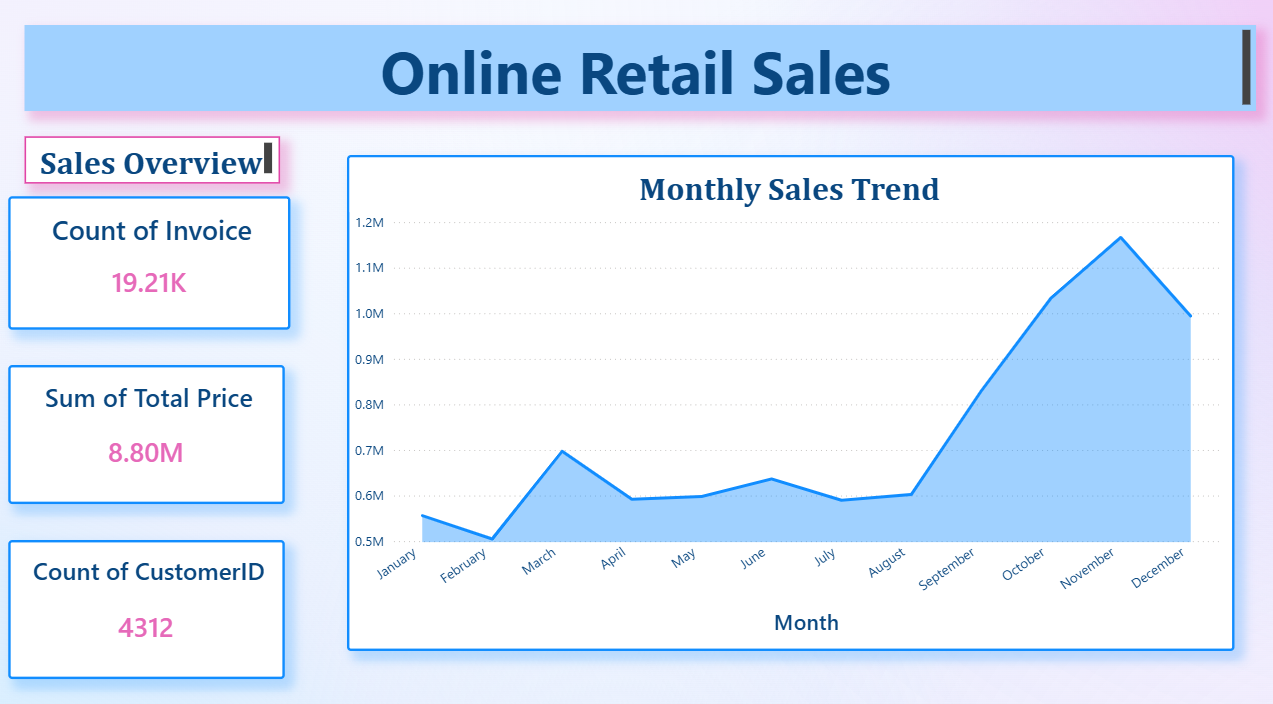

What the dashboard file says about the page in this screenshot:
{"tool":"powerbi","page":{"name":"Sales_Overview","canvas":[1280,720],"ordinal":0},"visuals":[{"type":"textbox","box":[27.4,140.7,254.1,47.3],"z":0},{"type":"card","title":"Sum of Total  Price","fields":{"Values":["Sum(cleaned_online_retail.TotalPrice)"]},"box":[11.2,368.6,275.2,138.2],"z":1000},{"type":"card","title":"Count  of Invoice","fields":{"Values":["Count(cleaned_online_retail.Invoice)"]},"box":[11.2,200.3,281.1,133.1],"z":2000},{"type":"card","title":"Count of CustomerID","fields":{"Values":["Count(cleaned_online_retail.Customer ID)"]},"box":[11.2,543,275.2,138.2],"z":3000},{"type":"lineChart","title":"Monthly Sales Trend","fields":{"Category":["cleaned_online_retail.InvoiceDate.Variation.Date Hierarchy.Month"],"Y":["Sum(cleaned_online_retail.TotalPrice)"]},"box":[348.3,159.2,883.2,493.9],"z":4000},{"type":"textbox","box":[27.4,29.9,1225.3,85.8],"z":5000}]}

Visuals, with their boxes in screenshot pixels (x1, y1, x2, y2), scaled from the page's 1280x720 canvas onto the 1273x704 screenshot:
textbox: Rect(27, 138, 280, 184)
"Sum of Total  Price" card: Rect(11, 360, 285, 496)
"Count  of Invoice" card: Rect(11, 196, 291, 326)
"Count of CustomerID" card: Rect(11, 531, 285, 666)
"Monthly Sales Trend" lineChart: Rect(346, 156, 1225, 639)
textbox: Rect(27, 29, 1246, 113)
